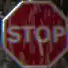Stop: (1, 0, 67, 67)
